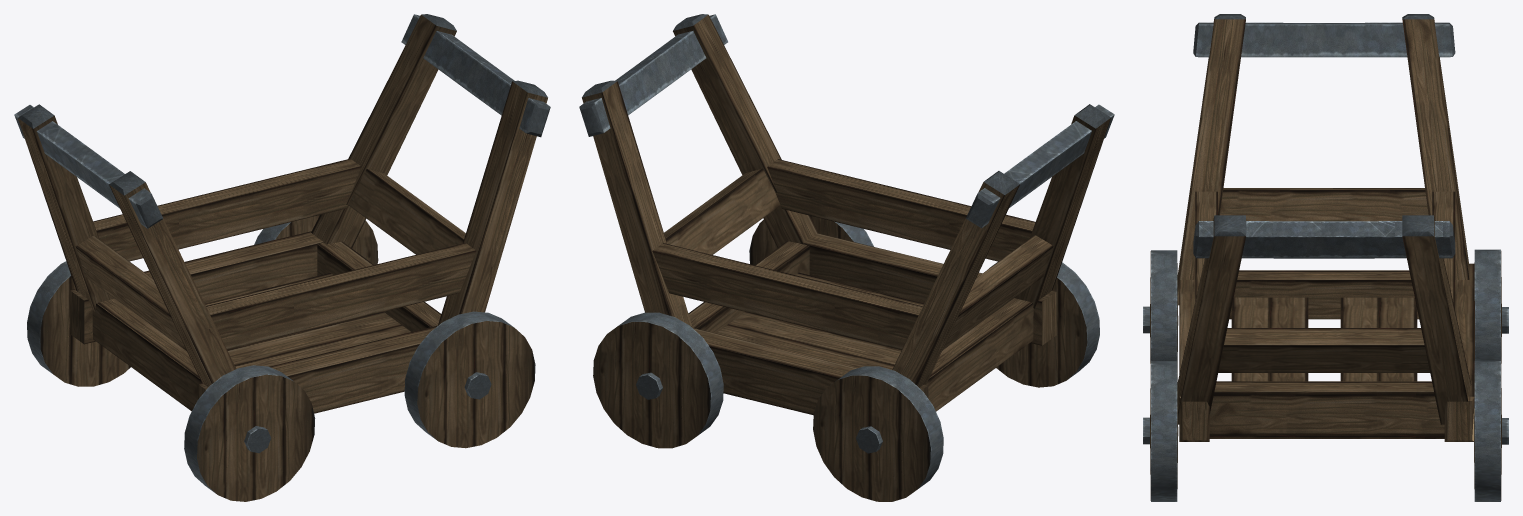
Rendered from p2_small_wheel.fbx.
3 renders of one model, left to right at view 1: azimuth 30°, elevation 25°; view 2: azimuth 150°, elevation 25°; view 3: azimuth 270°, elevation 25°, orthographic. The views are drawn at different scales.
Parts seen in each view (by area): view 1: body, wheel2, wheel1, wheel3 (2), wheel3; view 2: body, wheel3, wheel3 (2), wheel1, wheel2; view 3: body, wheel3, wheel2, wheel1, wheel3 (2).
Boxes of the visible parts, x1,y1,x2,y2 form: body: (14, 14, 550, 413); wheel2: (404, 311, 535, 448); wheel1: (184, 365, 315, 501); wheel3 (2): (27, 261, 130, 386); wheel3: (254, 215, 378, 264); body: (579, 14, 1114, 415); wheel3: (593, 312, 723, 448); wheel3 (2): (813, 366, 943, 501); wheel1: (989, 261, 1099, 387); wheel2: (749, 216, 873, 264); body: (1177, 14, 1474, 441); wheel3: (1474, 360, 1508, 501); wheel2: (1143, 361, 1178, 501); wheel1: (1143, 250, 1178, 373); wheel3 (2): (1474, 249, 1508, 363).
Size of the model in its own units: 1037 by 741 by 752.
